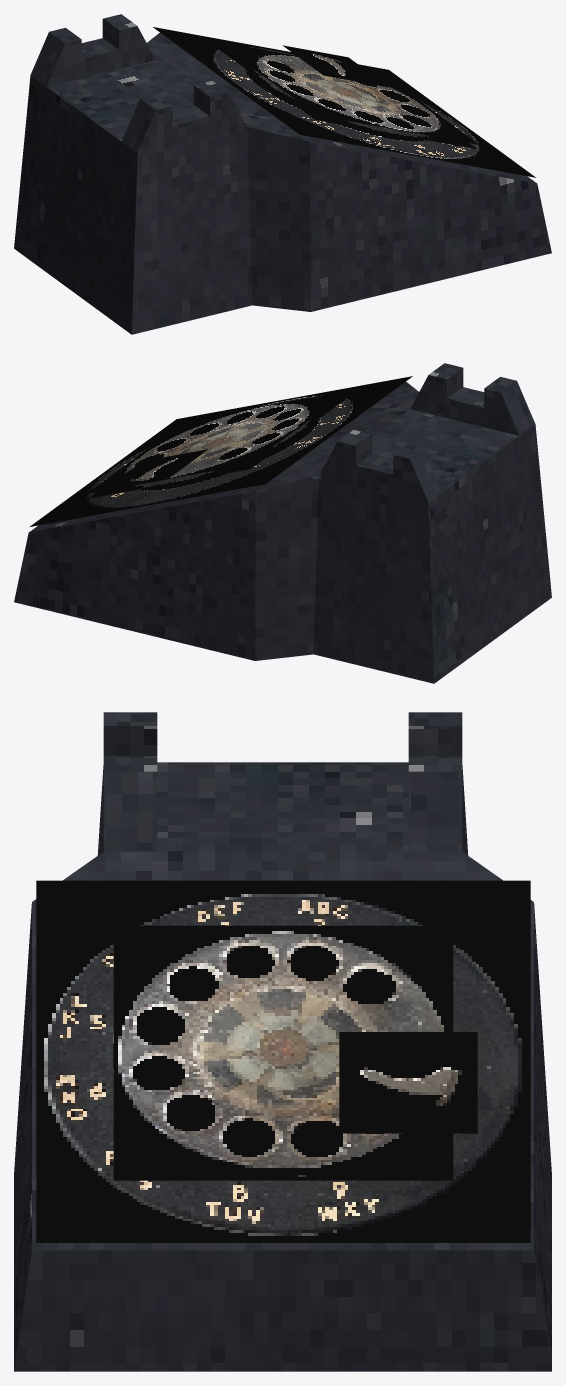
Rendered from Phone.glb.
The picture shows the model from 3 angles, top to bottom: view 1: azimuth 30°, elevation 25°; view 2: azimuth 150°, elevation 25°; view 3: azimuth 270°, elevation 25°; orthographic projection. The views are drawn at different scales.
Visible parts, largest first — view 1: Phone, NumbersAndLetters, FingerHoles, Stopper, Dots; view 2: Phone, NumbersAndLetters, FingerHoles, Stopper, Dots; view 3: Phone, NumbersAndLetters, FingerHoles, Stopper, Dots.
Part boxes in pixels (box(x1,y1,x2,y2)): Phone: box(14, 14, 551, 334); NumbersAndLetters: box(153, 27, 535, 177); FingerHoles: box(216, 41, 479, 144); Stopper: box(282, 45, 389, 87); Dots: box(215, 46, 477, 149); Phone: box(14, 363, 551, 683); NumbersAndLetters: box(30, 376, 412, 526); FingerHoles: box(86, 390, 349, 493); Stopper: box(102, 449, 208, 491); Dots: box(88, 395, 350, 498); Phone: box(14, 712, 551, 1371); NumbersAndLetters: box(36, 880, 530, 1242); FingerHoles: box(113, 925, 453, 1174); Stopper: box(339, 1032, 477, 1133); Dots: box(113, 1175, 453, 1180).
Bounding box in the file's own units: 4.3 × 2.2 × 3.
2 materials, 2 textured.
